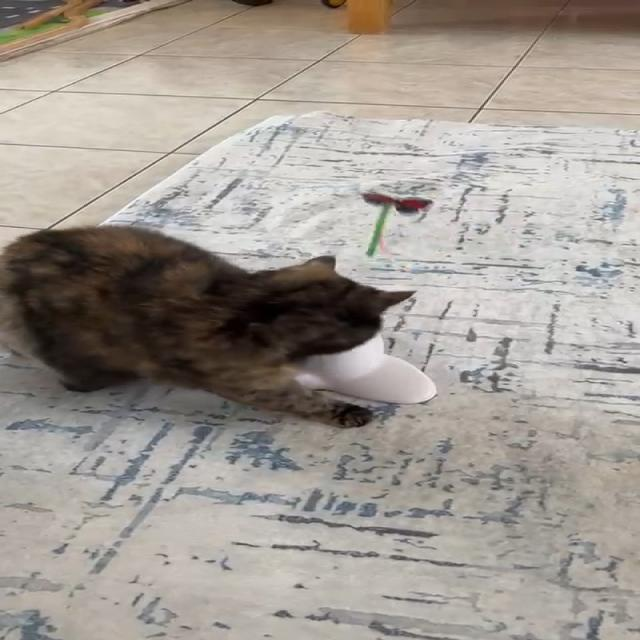authorized: (0, 223, 419, 429)
